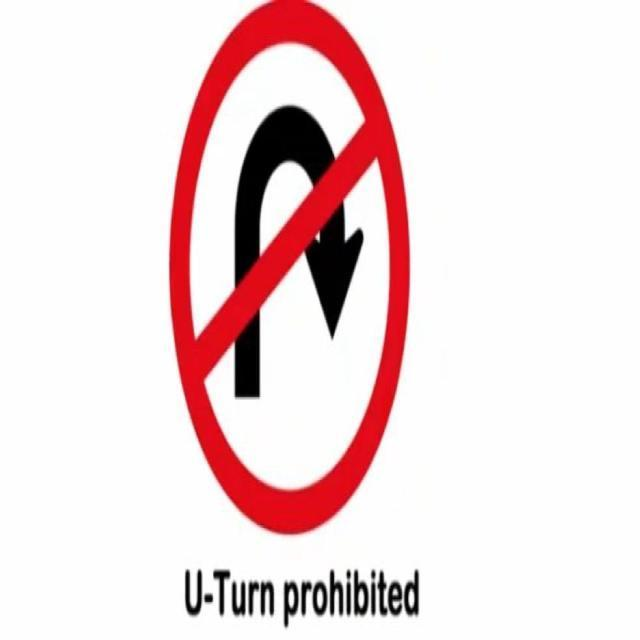u turn prohibited: (165, 12, 413, 535)
